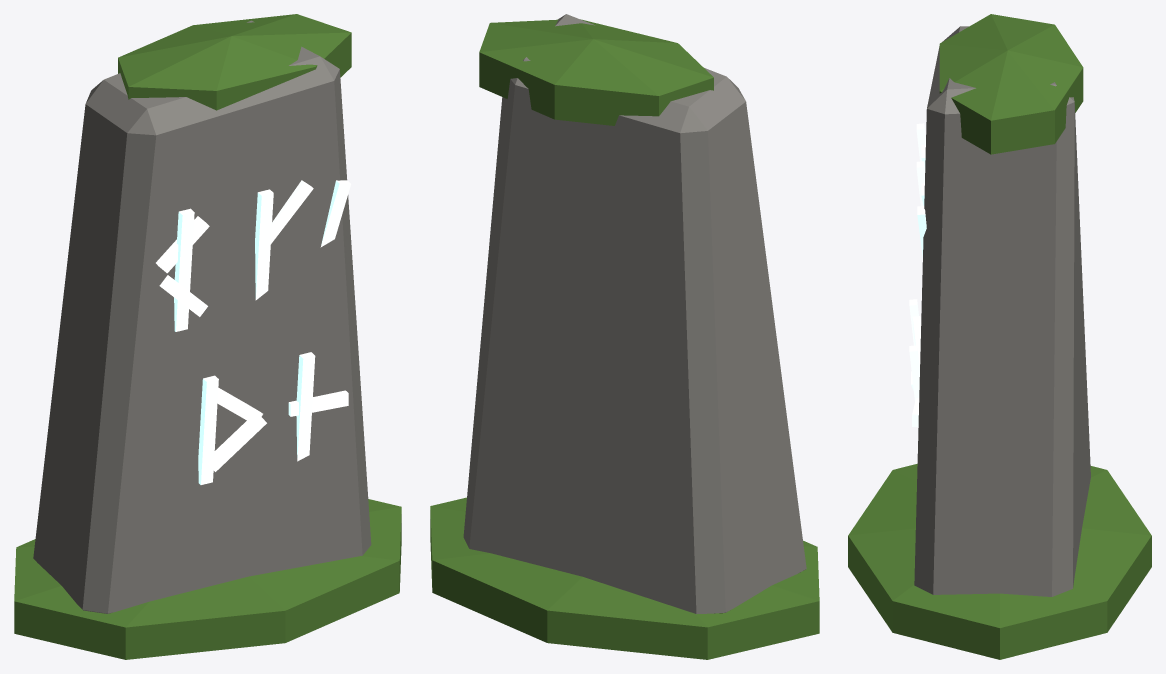
File: grove_rune_stone.glb
3 renders of one model, left to right at view 1: azimuth 30°, elevation 25°; view 2: azimuth 150°, elevation 25°; view 3: azimuth 270°, elevation 25°, orthographic. The views are drawn at different scales.
Visible parts, largest first — view 1: grove_rune_stone; view 2: grove_rune_stone; view 3: grove_rune_stone.
Boxes of the visible parts, x1,y1,x2,y2 form: grove_rune_stone: [14, 14, 401, 659]; grove_rune_stone: [430, 14, 819, 659]; grove_rune_stone: [848, 14, 1151, 659].
Size of the model in its own units: 1.13 by 1.55 by 0.7794.
